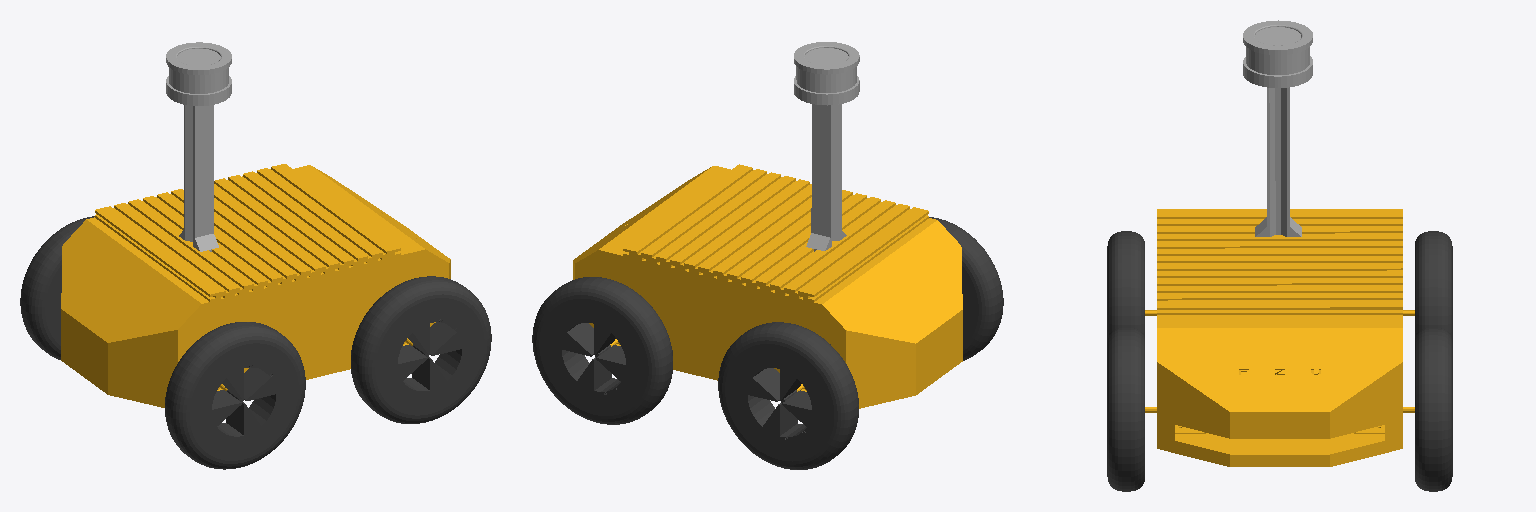
robot.urdf — autolabor_description:
<?xml version="1.0" encoding="utf-8"?>
<!-- This URDF was automatically created by SolidWorks to URDF Exporter! Originally created by [author] ([email redacted]) 
     Commit Version: 1.5.1-0-g916b5db  Build Version: 1.5.7152.31018
     For more information, please see http://wiki.ros.org/sw_urdf_exporter -->
<robot
  name="autolabor_description">
  <link
    name="base_link">
    <inertial>
      <origin
        xyz="-0.0070366 -3.7513E-06 0.13789"
        rpy="0 0 0" />
      <mass
        value="7.9056" />
      <inertia
        ixx="0.14089"
        ixy="1.5164E-06"
        ixz="-0.0020301"
        iyy="0.255"
        iyz="-5.1367E-05"
        izz="0.37218" />
    </inertial>
    <visual>
      <origin
        xyz="0 0 0"
        rpy="0 0 0" />
      <geometry>
        <mesh
          filename="package://autolabor_description/meshes/base_link.STL" />
      </geometry>
      <material
        name="">
        <color
          rgba="1.0 0.75 0.145 1" />
      </material>
    </visual>
    <collision>s
      <origin
        xyz="0 0 0"
        rpy="0 0 0" />
      <geometry>
        <mesh
          filename="package://autolabor_description/meshes/base_link.STL" />
      </geometry>
    </collision>
  </link>
  
  <gazebo reference="base_link">
      <material>Gazebo/Yellow</material>
  </gazebo>

  <link
    name="wheel_lf_link">
    <inertial>
      <origin
        xyz="3.2111E-06 -0.022503 5.6516E-06"
        rpy="0 0 0" />
      <mass
        value="3.1775" />
      <inertia
        ixx="0.017898"
        ixy="-2.8062E-07"
        ixz="5.9191E-07"
        iyy="0.033736"
        iyz="-4.939E-07"
        izz="0.017898" />
    </inertial>
    <visual>
      <origin
        xyz="0 0 0"
        rpy="0 0 0" />
      <geometry>
        <mesh
          filename="package://autolabor_description/meshes/wheel_lf_link.STL" />
      </geometry>
      <material
        name="">
        <color
          rgba="0.3 0.3 0.3 1.0" />
      </material>
    </visual>
    <collision>
      <origin
        xyz="0 0 0"
        rpy="0 0 0" />
      <geometry>
        <mesh
          filename="package://autolabor_description/meshes/wheel_lf_link.STL" />
      </geometry>
    </collision>
  </link>
  <joint
    name="wheel_lf_joint"
    type="continuous">
    <origin
      xyz="0.195 0.285 0.062"
      rpy="0 0 0" />
    <parent
      link="base_link" />
    <child
      link="wheel_lf_link" />
    <axis
      xyz="0 1 0" />
  </joint>
  <link
    name="wheel_lb_link">
    <inertial>
      <origin
        xyz="3.4118E-06 -0.022503 7.3321E-06"
        rpy="0 0 0" />
      <mass
        value="3.1774" />
      <inertia
        ixx="0.017897"
        ixy="-2.9819E-07"
        ixz="5.8561E-07"
        iyy="0.033736"
        iyz="-6.4087E-07"
        izz="0.017898" />
    </inertial>
    <visual>
      <origin
        xyz="0 0 0"
        rpy="0 0 0" />
      <geometry>
        <mesh
          filename="package://autolabor_description/meshes/wheel_lb_link.STL" />
      </geometry>
      <material
        name="">
        <color
          rgba="0.3 0.3 0.3 1.0" />
      </material>
    </visual>
    <collision>
      <origin
        xyz="0 0 0"
        rpy="0 0 0" />
      <geometry>
        <mesh
          filename="package://autolabor_description/meshes/wheel_lb_link.STL" />
      </geometry>
    </collision>
  </link>
  <joint
    name="wheel_lb_joint"
    type="continuous">
    <origin
      xyz="-0.195 0.285 0.062"
      rpy="0 0 0" />
    <parent
      link="base_link" />
    <child
      link="wheel_lb_link" />
    <axis
      xyz="0 1 0" />
  </joint>
  <link
    name="wheel_rf_link">
    <inertial>
      <origin
        xyz="-4.5552E-06 0.022503 -6.8781E-06"
        rpy="0 0 0" />
      <mass
        value="3.1774" />
      <inertia
        ixx="0.017897"
        ixy="-3.9829E-07"
        ixz="7.3849E-07"
        iyy="0.033736"
        iyz="-6.0165E-07"
        izz="0.017898" />
    </inertial>
    <visual>
      <origin
        xyz="0 0 0"
        rpy="0 0 0" />
      <geometry>
        <mesh
          filename="package://autolabor_description/meshes/wheel_rf_link.STL" />
      </geometry>
      <material
        name="">
        <color
          rgba="0.3 0.3 0.3 1.0" />
      </material>
    </visual>
    <collision>
      <origin
        xyz="0 0 0"
        rpy="0 0 0" />
      <geometry>
        <mesh
          filename="package://autolabor_description/meshes/wheel_rf_link.STL" />
      </geometry>
    </collision>
  </link>
  <joint
    name="wheel_rf_joint"
    type="continuous">
    <origin
      xyz="0.195 -0.285 0.062"
      rpy="0 0 0" />
    <parent
      link="base_link" />
    <child
      link="wheel_rf_link" />
    <axis
      xyz="0 1 0" />
  </joint>
  <link
    name="wheel_rb_link">
    <inertial>
      <origin
        xyz="-5.5229E-06 0.022504 -8.143E-06"
        rpy="0 0 0" />
      <mass
        value="3.1774" />
      <inertia
        ixx="0.017897"
        ixy="-4.8241E-07"
        ixz="8.1653E-07"
        iyy="0.033736"
        iyz="-7.1181E-07"
        izz="0.017898" />
    </inertial>
    <visual>
      <origin
        xyz="0 0 0"
        rpy="0 0 0" />
      <geometry>
        <mesh
          filename="package://autolabor_description/meshes/wheel_rb_link.STL" />
      </geometry>
      <material
        name="">
        <color
          rgba="0.3 0.3 0.3 1.0" />
      </material>
    </visual>
    <collision>
      <origin
        xyz="0 0 0"
        rpy="0 0 0" />
      <geometry>
        <mesh
          filename="package://autolabor_description/meshes/wheel_rb_link.STL" />
      </geometry>
    </collision>
  </link>
  <joint
    name="wheel_rb_joint"
    type="continuous">
    <origin
      xyz="-0.195 -0.285 0.062"
      rpy="0 0 0" />
    <parent
      link="base_link" />
    <child
      link="wheel_rb_link" />
    <axis
      xyz="0 1 0" />
  </joint>

  <gazebo reference="wheel_lf_link">
      <material>Gazebo/DarkGrey</material>
  </gazebo>  
  <gazebo reference="wheel_lb_link">
      <material>Gazebo/DarkGrey</material>
  </gazebo>
  <gazebo reference="wheel_rf_link">
      <material>Gazebo/DarkGrey</material>
  </gazebo>
  <gazebo reference="wheel_rb_link">
      <material>Gazebo/DarkGrey</material>
  </gazebo>

  <link name="camera_link">
      <visual>
           <origin xyz="0 0 0" rpy="0 0 1.5708"/>
           <geometry>
             <mesh filename="package://autolabor_description/meshes/kinect.dae" />
           </geometry>
      </visual>
 </link>

 <joint name="cameara_joint" type="fixed">
        <origin xyz="0.15 0 0.28" rpy="0 0 0 "/>
        <parent link="base_link"/>
        <child link="camera_link"/>
 </joint>
           

  <link
    name="lidar_link">
    <inertial>
      <origin
        xyz="0 0 0"
        rpy="0 0 0" />
      <mass
        value="0" />
      <inertia
        ixx="0"
        ixy="0"
        ixz="0"
        iyy="0"
        iyz="0"
        izz="0" />
    </inertial>
    <visual>
      <origin
        xyz="0 0 0"
        rpy="0 0 0" />
      <geometry>
        <mesh
          filename="package://autolabor_description/meshes/lidar_link.STL" />
      </geometry>
      <material
        name="">
        <color
          rgba="0.7 0.7 0.7 1.0" />
      </material>
    </visual>
    <collision>
      <origin
        xyz="0 0 0"
        rpy="0 0 0" />
      <geometry>
        <mesh
          filename="package://autolabor_description/meshes/lidar_link.STL" />
      </geometry>
    </collision>
  </link>
  <joint
    name="lidar_joint"
    type="fixed">
    <origin
      xyz="-0.12136 -0.003145 0.61764"
      rpy="0 0 0" />
    <parent
      link="base_link" />
    <child
      link="lidar_link" />
    <axis
      xyz="0 0 0" />
  </joint>

  <gazebo reference="lidar_link">
      <material>Gazebo/Grey</material>
  </gazebo>

  <gazebo reference="lidar_link">
      <sensor type="ray" name="rplidar">
          <pose>0 0 0 0 0 0</pose>
          <visualize>false</visualize>
          <update_rate>50</update_rate>
          <ray>
              <scan>
                <horizontal>
                  <samples>720</samples>
                  <resolution>1</resolution>
                  <min_angle>-2.0</min_angle>
                  <max_angle>2.0</max_angle>
                 </horizontal>
                </scan>
                <range>
                  <min>0.10</min>
                  <max>40.0</max>
                  <resolution>0.01</resolution>
                </range>
                <noise>
                  <type>gaussian</type>
                   <mean>0.0</mean>
                   <stddev>0.01</stddev>
                </noise>
           </ray>
           <plugin name="gazebo_rplidar" filename="libgazebo_ros_laser.so">
               <topicName>/scan</topicName>
               <frameName>lidar_link</frameName>
            </plugin>
       </sensor>
   </gazebo>

        <transmission name="wheel_lb_joint_trans">
            <type>transmission_interface/SimpleTransmission</type>
            <joint name="wheel_lb_joint" >
                <hardwareInterface>hardware_interface/VelocityJointInterface</hardwareInterface>
            </joint>
            <actuator name="wheel_lb_motor">
                <hardwareInterface>hardware_interface/VelocityJointInterface</hardwareInterface>
                <mechanicalReduction>1</mechanicalReduction>
            </actuator>
        </transmission>

        <transmission name="wheel_rb_joint_trans">
            <type>transmission_interface/SimpleTransmission</type>
            <joint name="wheel_rb_joint" >
                <hardwareInterface>hardware_interface/VelocityJointInterface</hardwareInterface>
            </joint>
            <actuator name="wheel_rb_motor">
                <hardwareInterface>hardware_interface/VelocityJointInterface</hardwareInterface>
                <mechanicalReduction>1</mechanicalReduction>
            </actuator>
        </transmission>

  <gazebo>
    <plugin name="skid_steer_drive_controller" filename="libgazebo_ros_skid_steer_drive.so">
      <alwaysOn>true</alwaysOn>
      <updateRate>100.0</updateRate>
      <robotNamespace>/</robotNamespace>
      <leftFrontJoint>wheel_lf_joint</leftFrontJoint>
      <rightFrontJoint>wheel_rf_joint</rightFrontJoint>
      <leftRearJoint>wheel_lb_joint</leftRearJoint>
      <rightRearJoint>wheel_rb_joint</rightRearJoint>
      <wheelSeparation>0.75</wheelSeparation>
      <wheelDiameter>0.2</wheelDiameter>
      <torque>7.5</torque>
      <commandTopic>cmd_vel</commandTopic>
      <odometryTopic>odom</odometryTopic>
      <odometryFrame>odom</odometryFrame>
      <robotBaseFrame>base_link</robotBaseFrame>
      <broadcastTF>1</broadcastTF>
    </plugin>
  </gazebo>

<!--
   <gazebo>
            <plugin name="differential_drive_controller" 
                    filename="libgazebo_ros_diff_drive.so">
                <rosDebugLevel>Debug</rosDebugLevel>
                <publishWheelTF>true</publishWheelTF>
                <robotNamespace>/</robotNamespace>
                <publishTf>1</publishTf>
                <publishWheelJointState>true</publishWheelJointState>
                <alwaysOn>true</alwaysOn>
                <updateRate>100.0</updateRate>
                <legacyMode>true</legacyMode>
                <leftJoint>wheel_rb_joint</leftJoint>
                <rightJoint>wheel_lb_joint</rightJoint>
                <wheelSeparation>0.5</wheelSeparation>
                <wheelDiameter>0.2</wheelDiameter>
                <broadcastTF>1</broadcastTF>
                <wheelTorque>10</wheelTorque>
                <wheelAcceleration>1.8</wheelAcceleration>
                <commandTopic>cmd_vel</commandTopic>
                <odometryFrame>odom</odometryFrame> 
                <odometryTopic>odom</odometryTopic> 
                <robotBaseFrame>base_link</robotBaseFrame>
            </plugin>
        </gazebo>
-->




    <gazebo reference="camera_link"> 
            <sensor type="depth" name="camera">
            <update_rate>30.0</update_rate> 
            <camera name="head">
                <horizontal_fov>1.3962634</horizontal_fov> 
                <image>
                    <width>640</width>
                    <height>480</height>
                    <format>R8G8B8</format> 
                </image>
                <clip>
                    <near>0.05</near> 
                    <far>20.0</far> 
                </clip>
            </camera>
           
            <plugin name="kinect_camera_controller" filename="libgazebo_ros_openni_kinect.so">
                <alwaysOn>true</alwaysOn>
                <updateRate>10</updateRate>
                <cameraName>camera</cameraName> 
                <imageTopicName>rgb/image_raw</imageTopicName> 
                
                <depthImageTopicName>depth/image_raw</depthImageTopicName>
		<pointCloudTopicName>depth/points</pointCloudTopicName>
                <cameraInfoTopicName>rgb/camera_info</cameraInfoTopicName>
		<depthImageCameraInfoTopicName>depth/camera_info</depthImageCameraInfoTopicName>
                <frameName>camera_depth_optical_frame</frameName>
                <baseline>0.1</baseline>
		<distortion_k1>0.0</distortion_k1>
		<distortion_k2>0.0</distortion_k2>
		<distortion_k3>0.0</distortion_k3>
		<distortion_t1>0.0</distortion_t1>
		<distortion_t2>0.0</distortion_t2>
                <pointCloudCutoff>0.4</pointCloudCutoff>
            </plugin>
        </sensor>
    </gazebo>


</robot>

--- Facts derived from the render (not from the file) ---
3 views of the same robot in one strip: view 1: azimuth 30°, elevation 25°; view 2: azimuth 150°, elevation 25°; view 3: azimuth 270°, elevation 25° (orthographic).
Model autolabor_description with 7 links and 6 joints (4 continuous, 2 fixed), rooted at base_link, posed every joint at zero.
Visible links, largest first — view 1: base_link, wheel_rb_link, wheel_rf_link, lidar_link, wheel_lb_link; view 2: base_link, wheel_lf_link, wheel_lb_link, lidar_link, wheel_rb_link; view 3: base_link, lidar_link, wheel_rf_link, wheel_lf_link, wheel_lb_link, wheel_rb_link.
Link boxes in pixels (x1,y1,x2,y2): base_link: [61, 164, 450, 407]; wheel_rb_link: [165, 322, 305, 469]; wheel_rf_link: [351, 276, 491, 423]; lidar_link: [166, 42, 231, 251]; wheel_lb_link: [20, 216, 94, 359]; base_link: [573, 164, 962, 408]; wheel_lf_link: [532, 277, 672, 424]; wheel_lb_link: [718, 322, 858, 469]; lidar_link: [794, 42, 859, 251]; wheel_rb_link: [929, 217, 1003, 360]; base_link: [1145, 209, 1414, 466]; lidar_link: [1243, 20, 1312, 236]; wheel_rf_link: [1107, 328, 1144, 491]; wheel_lf_link: [1415, 328, 1452, 491]; wheel_lb_link: [1415, 231, 1452, 341]; wheel_rb_link: [1107, 231, 1144, 341].
Size in the robot's own frame: 0.72 by 0.59 by 0.6987 metres.
6 mesh visuals loaded from 7 distinct referenced files (6 binary STL); not drawn: 1 (reference not matched to a file when rendering).
